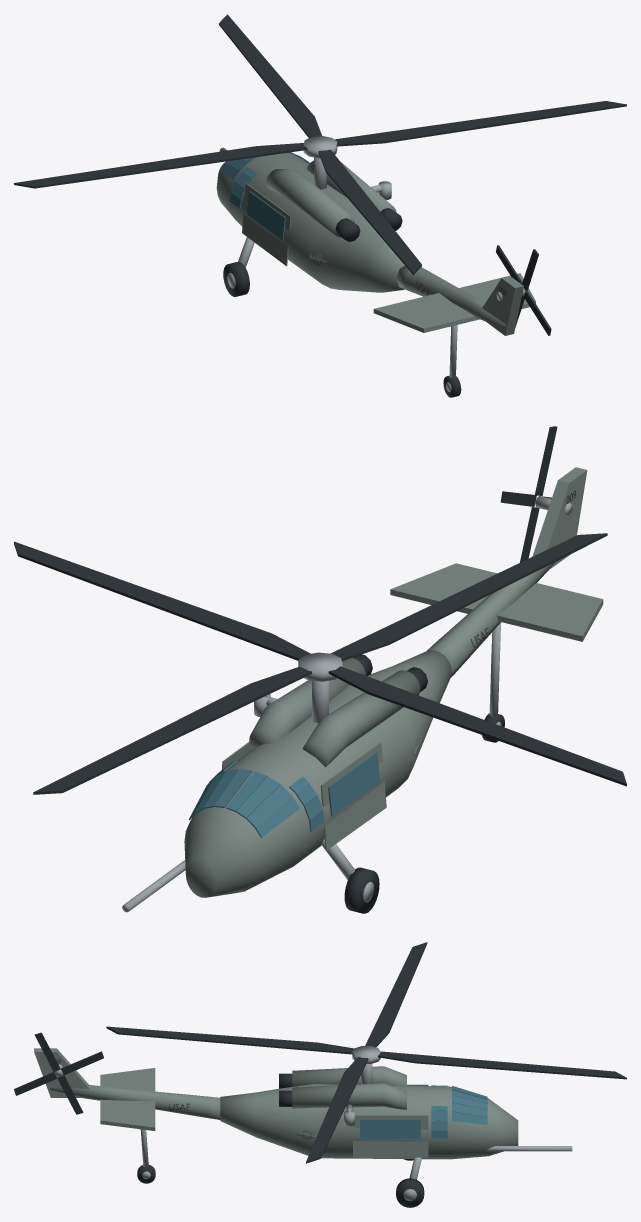
File: moffett-rescue-helicopter.glb
3 renders of one model, top to bottom at view 1: azimuth 30°, elevation 25°; view 2: azimuth 150°, elevation 25°; view 3: azimuth 270°, elevation 25°, orthographic. The views are drawn at different scales.
Parts seen in each view (by area): view 1: moffett-rescue-helicopter; view 2: moffett-rescue-helicopter; view 3: moffett-rescue-helicopter.
Part boxes in pixels (<box>): moffett-rescue-helicopter: <box>14,14,626,397</box>; moffett-rescue-helicopter: <box>14,426,626,913</box>; moffett-rescue-helicopter: <box>14,942,626,1207</box>.
Bounding box in the file's own units: 15.9 × 5.29 × 18.71.
